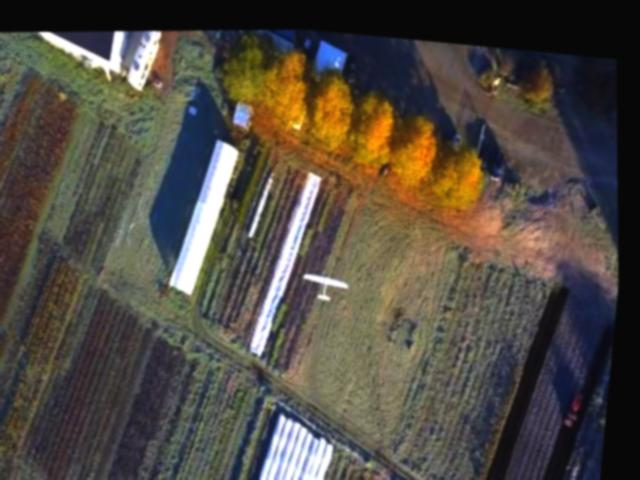uav: (306, 257, 358, 302)
